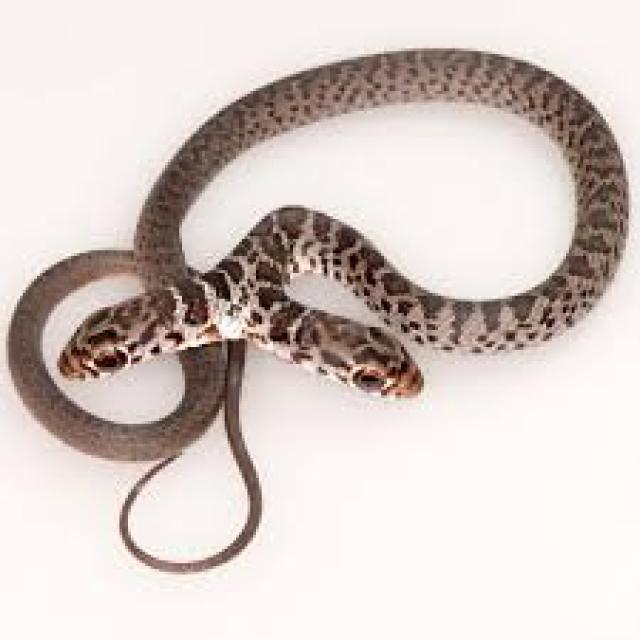Snake: (0, 38, 634, 570)
